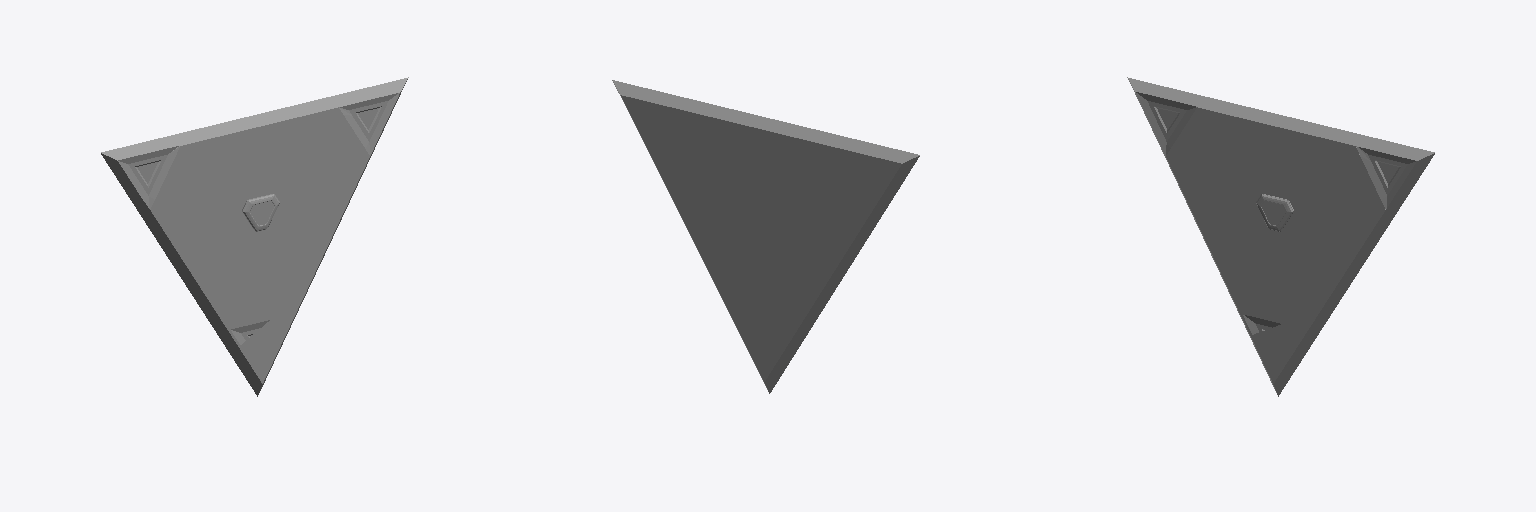
Rendered from Triangle.obj.
3 renders of one model, left to right at view 1: azimuth 30°, elevation 25°; view 2: azimuth 150°, elevation 25°; view 3: azimuth 330°, elevation 25°, orthographic.
Visible parts, largest first — view 1: TriangleUFO:Mesh; view 2: TriangleUFO:Mesh; view 3: TriangleUFO:Mesh.
Part boxes in pixels (bbox=[...]): TriangleUFO:Mesh: bbox=[101, 77, 408, 396]; TriangleUFO:Mesh: bbox=[612, 80, 919, 393]; TriangleUFO:Mesh: bbox=[1127, 77, 1434, 396].
Size of the model in its own units: 7.61 by 6.59 by 0.571.